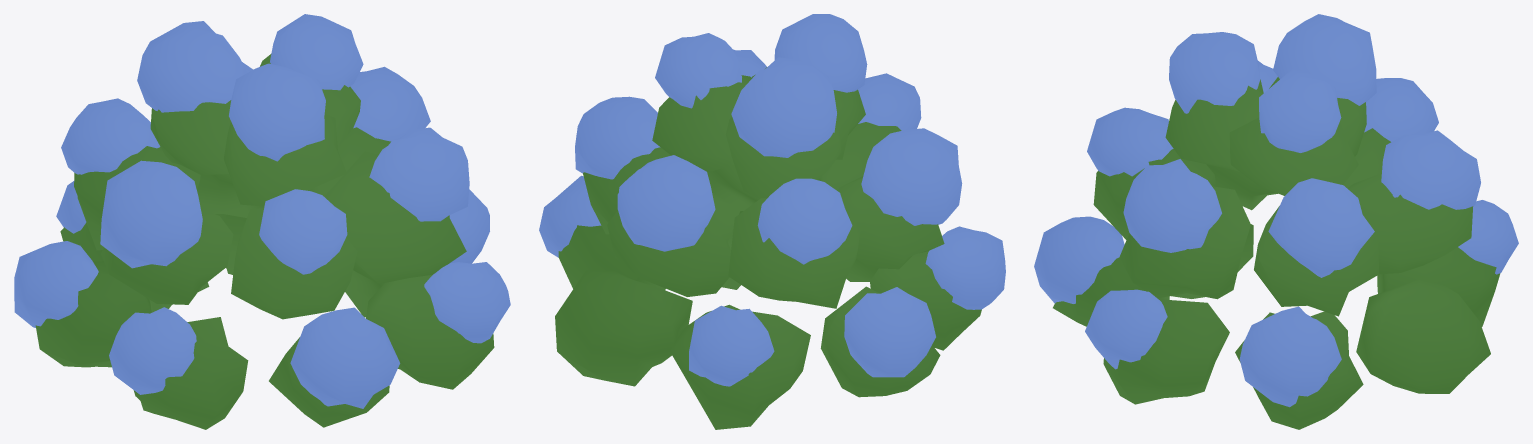
File: Blender_Hydrangea_1.glb
3 views of the same model, side by side, from view 1: azimuth 30°, elevation 25°; view 2: azimuth 150°, elevation 25°; view 3: azimuth 270°, elevation 25° (orthographic). The views are drawn at different scales.
Parts seen in each view (by area): view 1: Blender_Hydrangea_1; view 2: Blender_Hydrangea_1; view 3: Blender_Hydrangea_1.
Boxes of the visible parts, box(x1,y1,x2,y2) form: Blender_Hydrangea_1: box(14, 14, 510, 429); Blender_Hydrangea_1: box(539, 14, 1005, 429); Blender_Hydrangea_1: box(1034, 14, 1518, 429).
Size of the model in its own units: 2.07 by 1.46 by 2.07.
